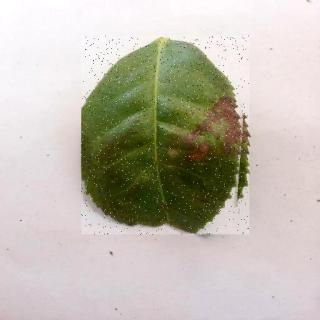Algal Leaf: (83, 37, 251, 237)
